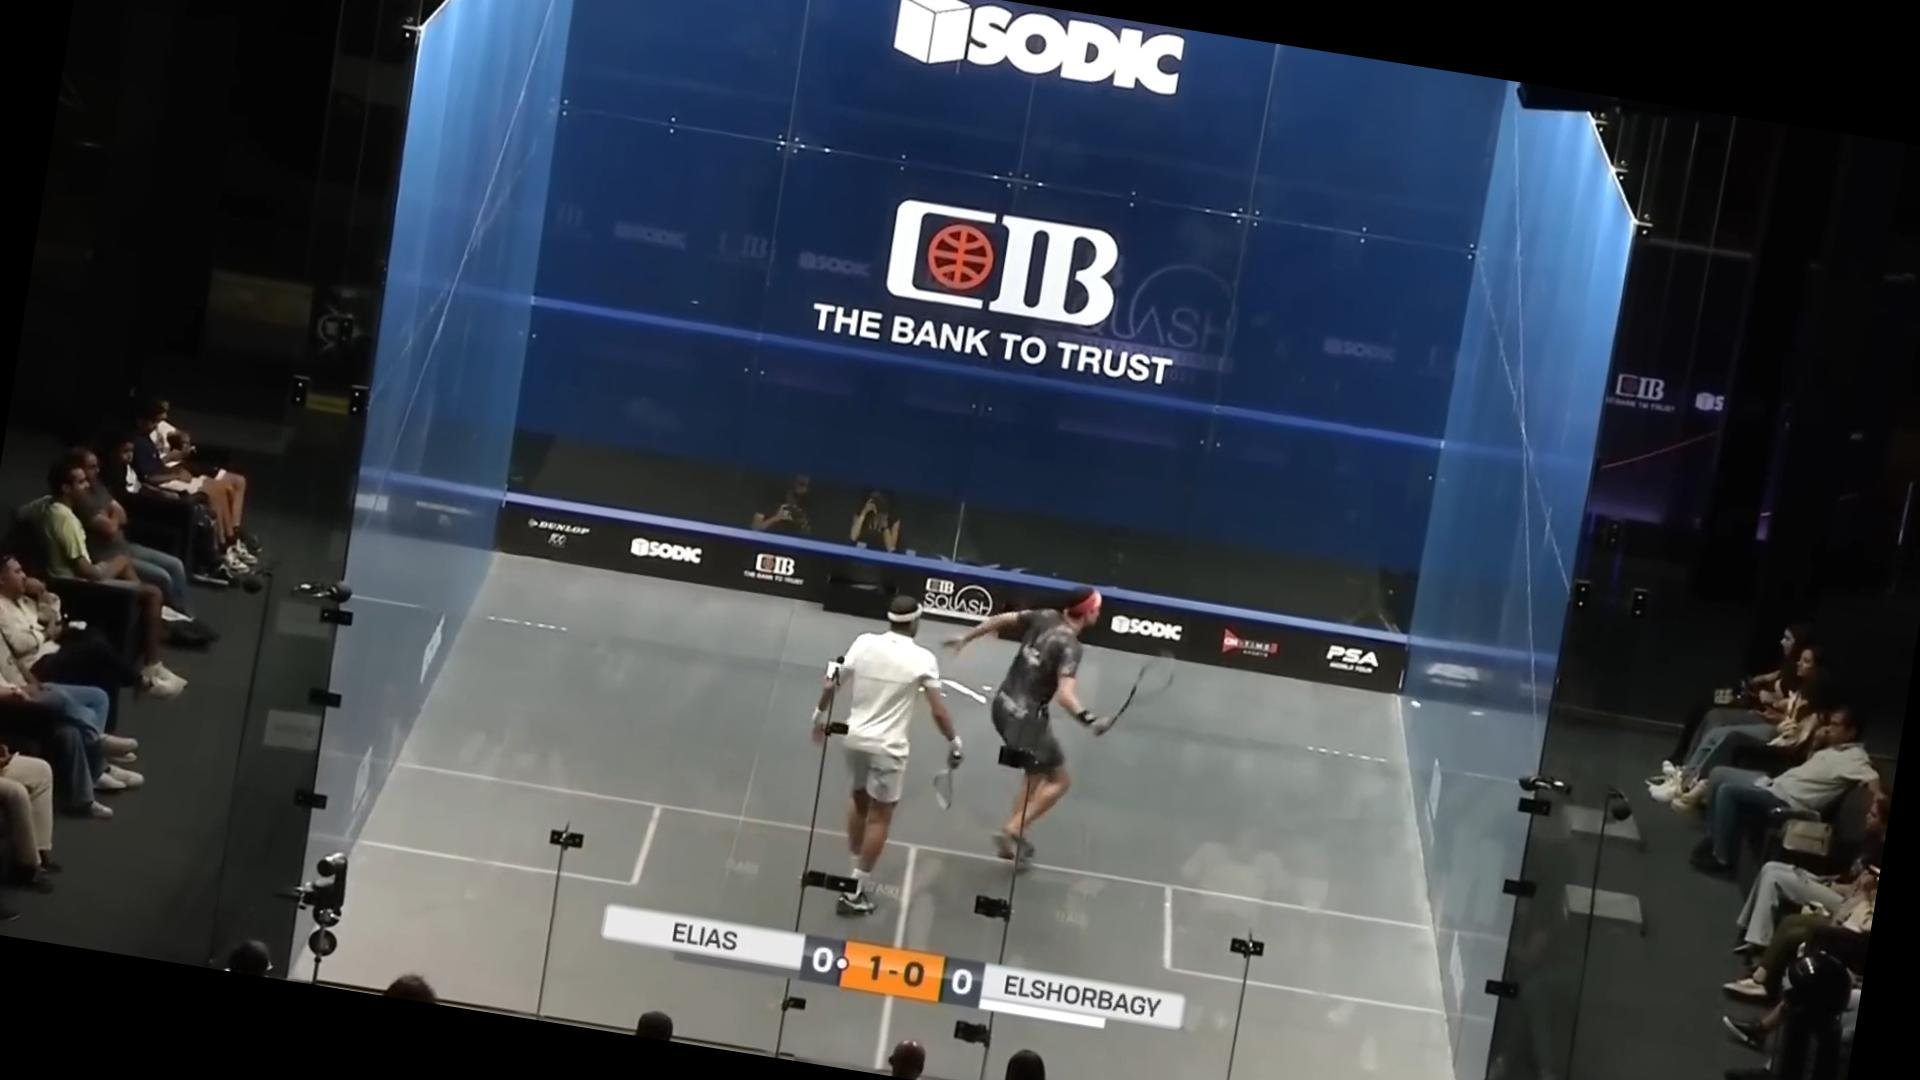Squash-Ball: (1399, 688, 1429, 720)
